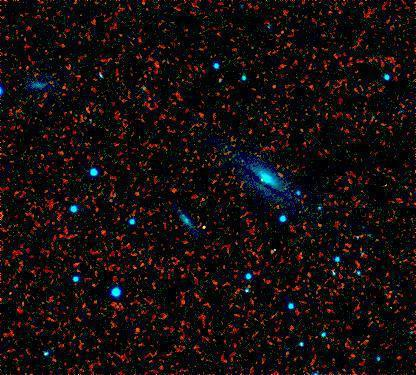star: (248, 164, 278, 194)
